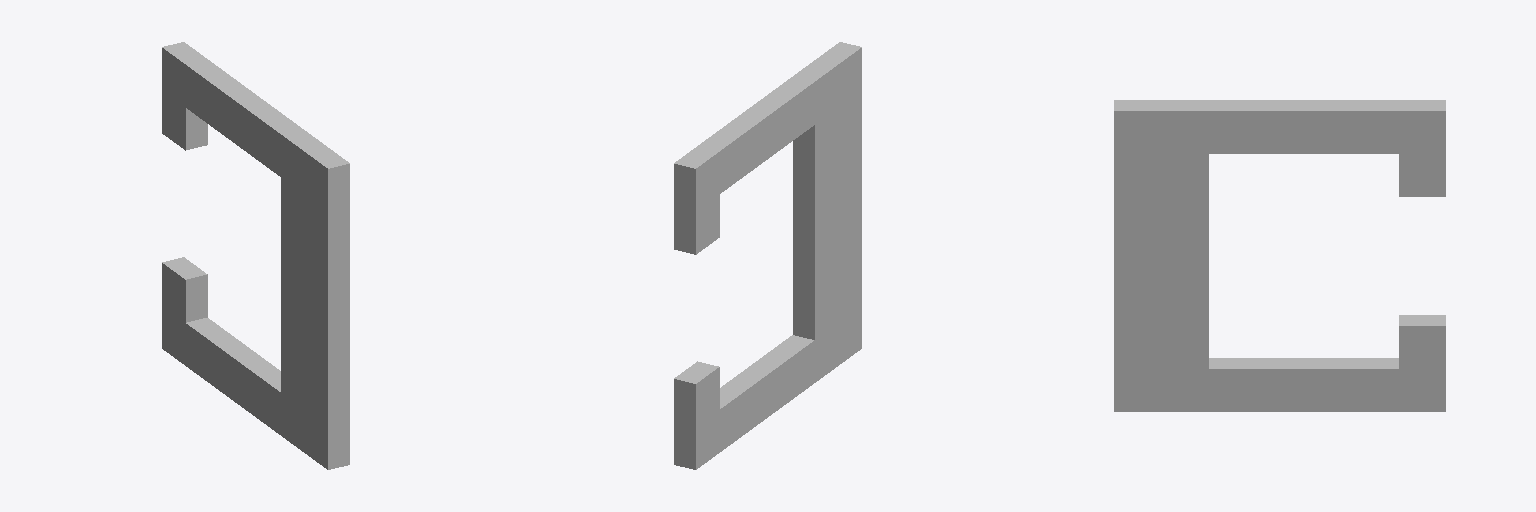
File: iver_rudder.obj
The picture shows the model from 3 angles: view 1: azimuth 30°, elevation 25°; view 2: azimuth 150°, elevation 25°; view 3: azimuth 270°, elevation 25°; orthographic projection.
Parts seen in each view (by area): view 1: Plane; view 2: Plane; view 3: Plane.
Boxes of the visible parts, x1=… form: Plane: x1=162, y1=42, x2=349, y2=469; Plane: x1=674, y1=42, x2=861, y2=469; Plane: x1=1114, y1=100, x2=1445, y2=411.
Bounding box in the file's own units: 0.1538 × 2 × 2.